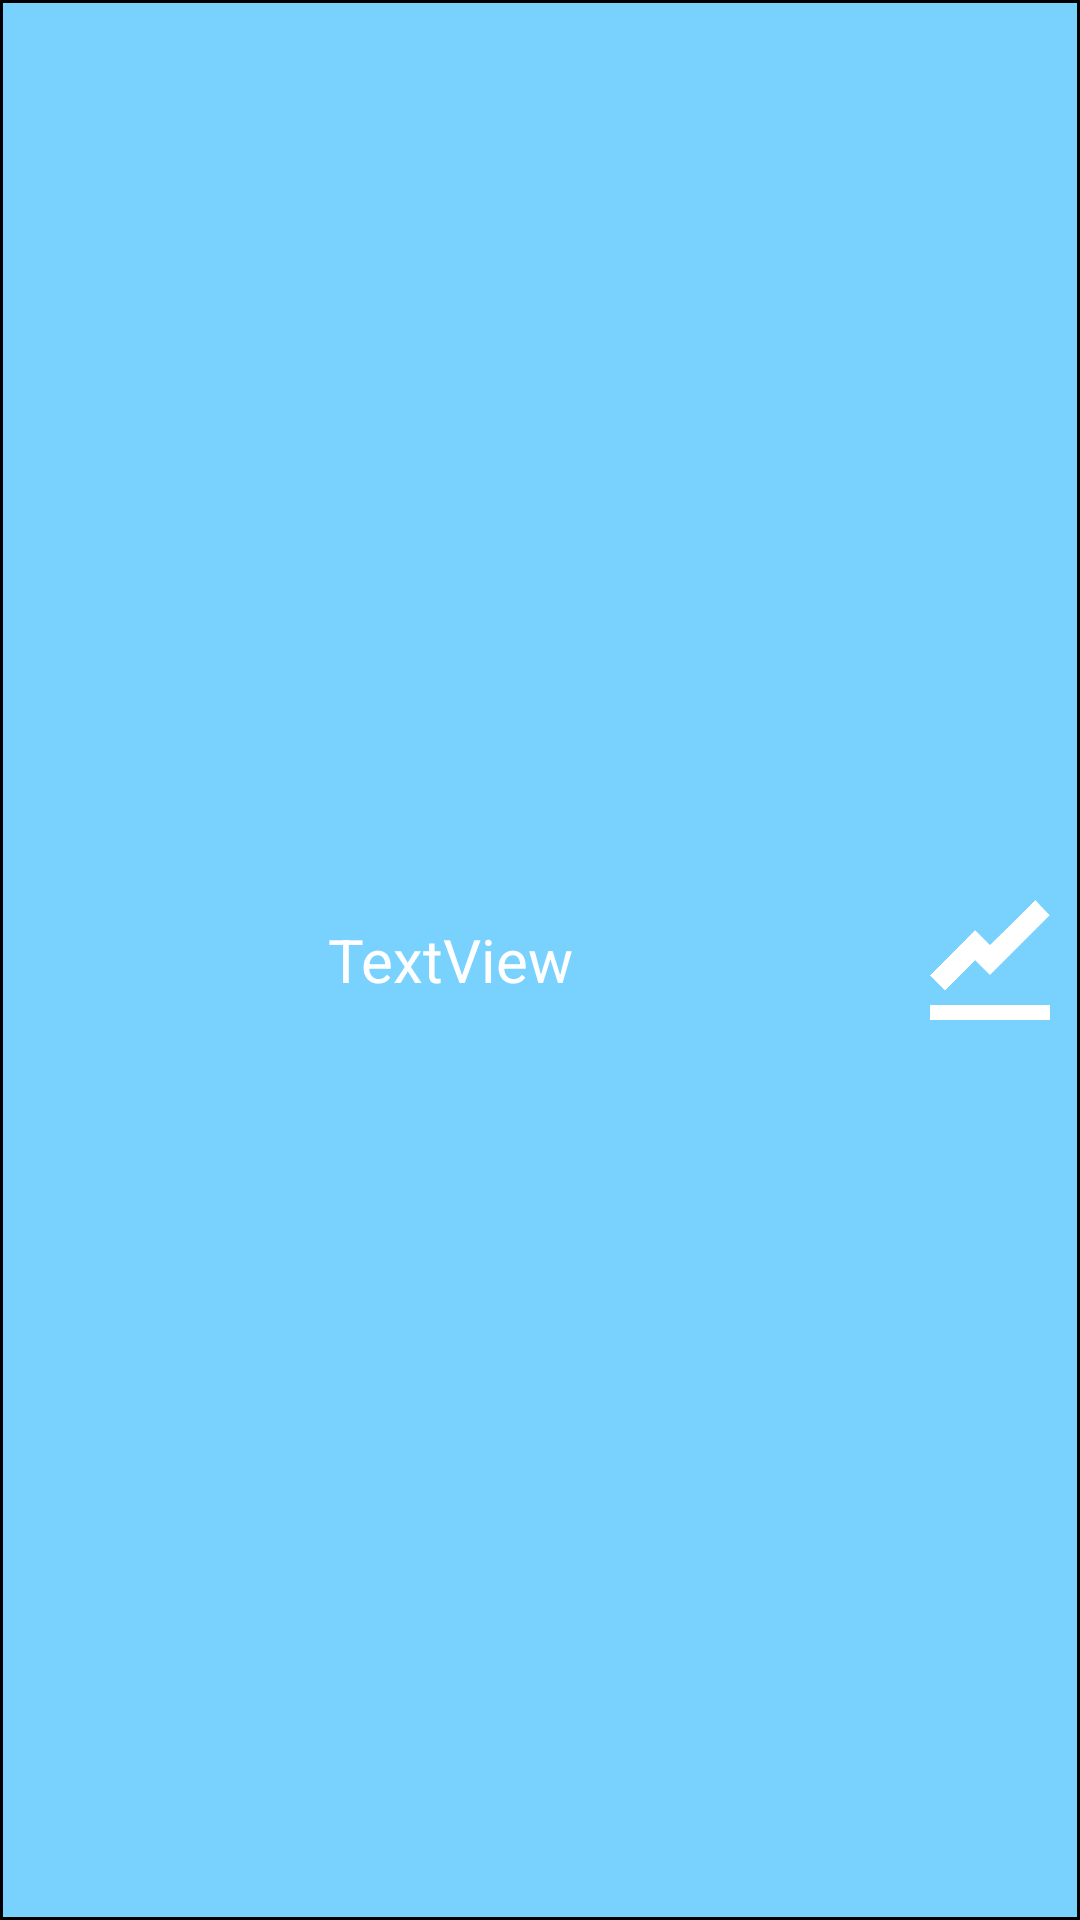

Icon bounding boxes for this 1080x1920 phone screenshot, format {"left": x1, "top": y1, "right": x2, "bottom": y2}:
graph: {"left": 930, "top": 900, "right": 1050, "bottom": 1020}
